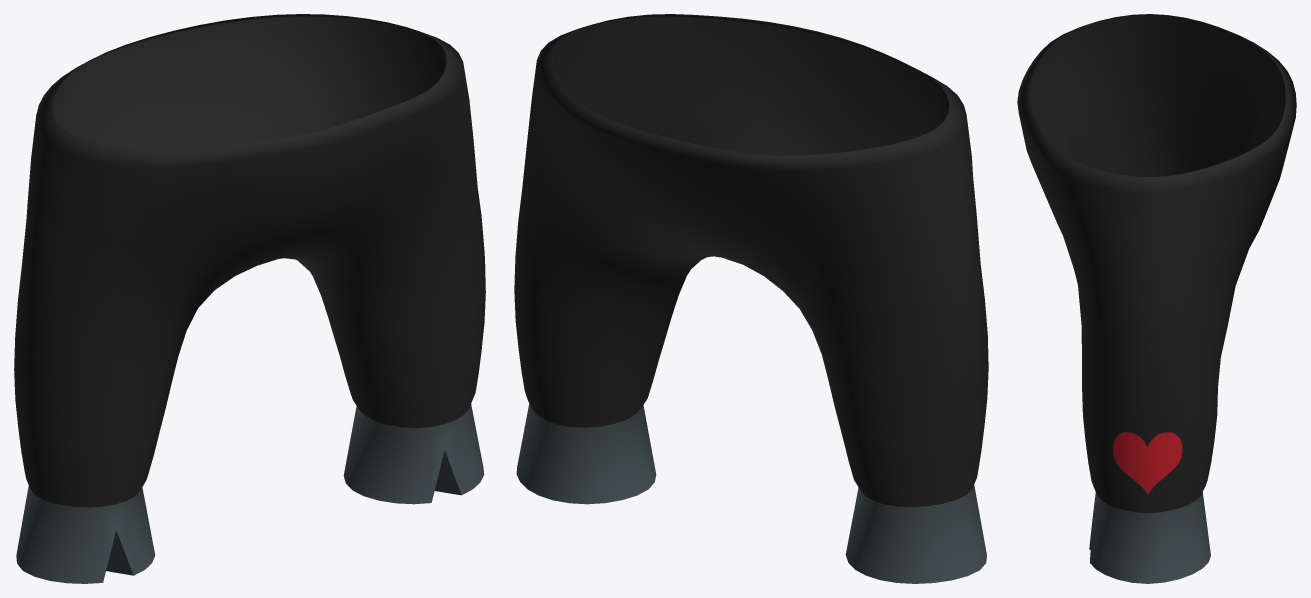
Rendered from 19骑行裤.fbx.
3 renders of one model, left to right at view 1: azimuth 30°, elevation 25°; view 2: azimuth 150°, elevation 25°; view 3: azimuth 270°, elevation 25°, orthographic. The views are drawn at different scales.
Parts seen in each view (by area): view 1: 19骑行裤; view 2: 19骑行裤; view 3: 19骑行裤.
Boxes of the visible parts, x1,y1,x2,y2 form: 19骑行裤: [14, 14, 485, 583]; 19骑行裤: [514, 14, 988, 583]; 19骑行裤: [1017, 14, 1296, 583].
Bounding box in the file's own units: 0.6341 × 0.5782 × 0.3731.
